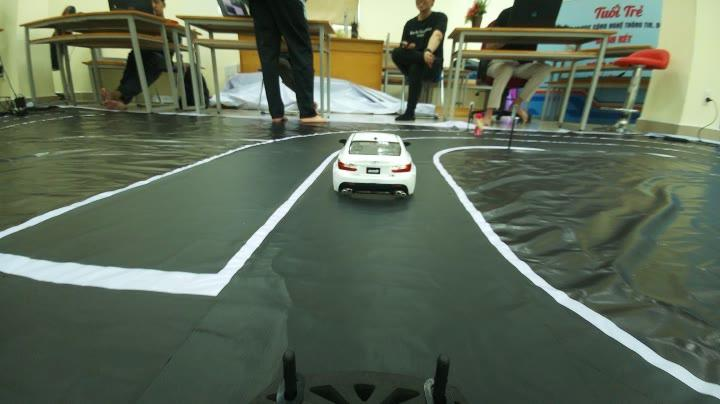car: (327, 122, 419, 201)
